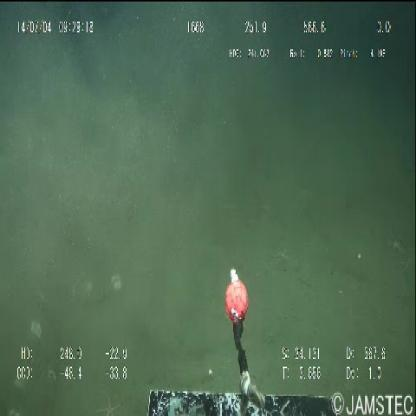Rác: (5, 275, 125, 415)
